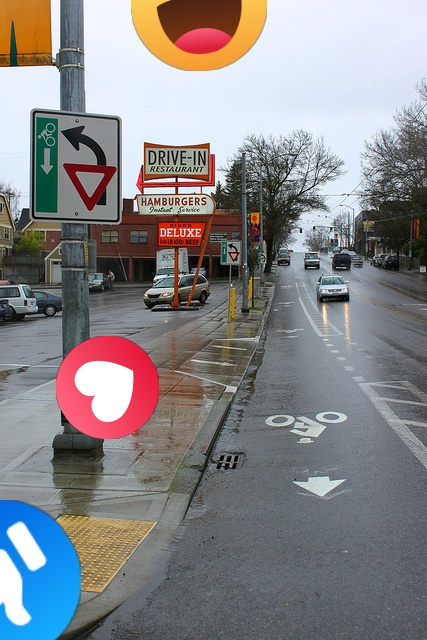haha: (131, 0, 267, 71)
like: (0, 500, 81, 640)
love: (56, 336, 159, 439)
